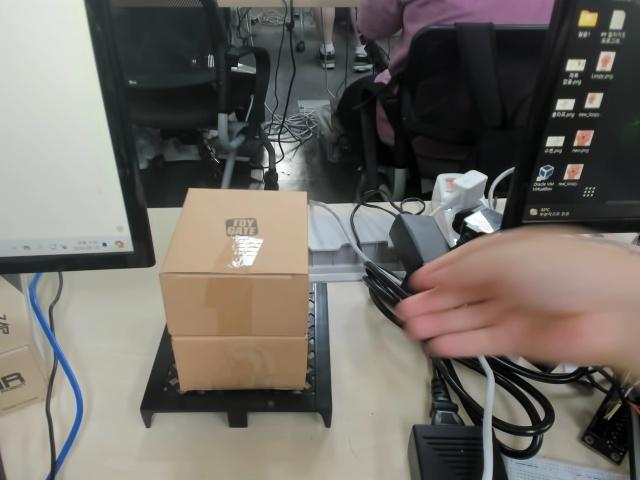box: (139, 187, 334, 429)
